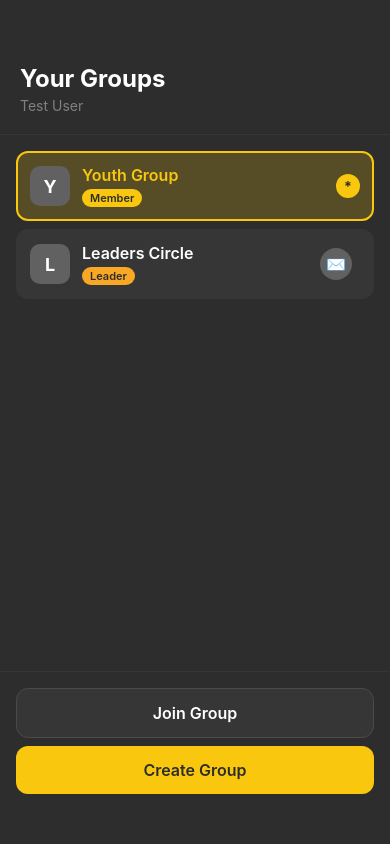
Test: GroupSidebar › Create Group › should show error when creating with empty name
Click the text "Create Group" at [195, 770], box [144,760,247,780]
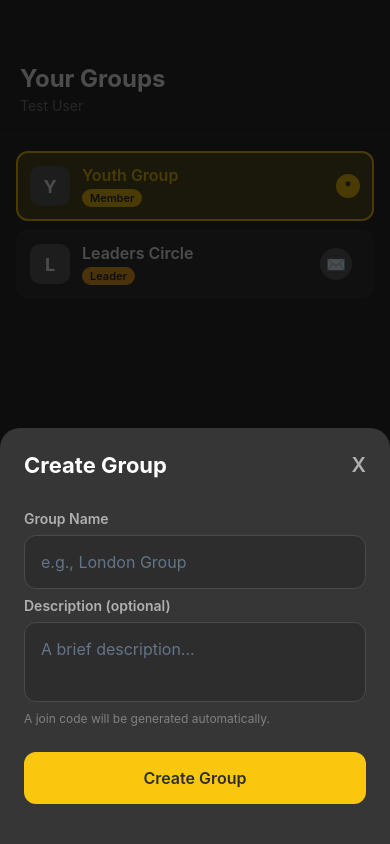
Note: Find the submit button in the modal (there are now two "Create Group" texts)
Click the 2nd text "Create Group" at [195, 778], box [144,768,247,788]
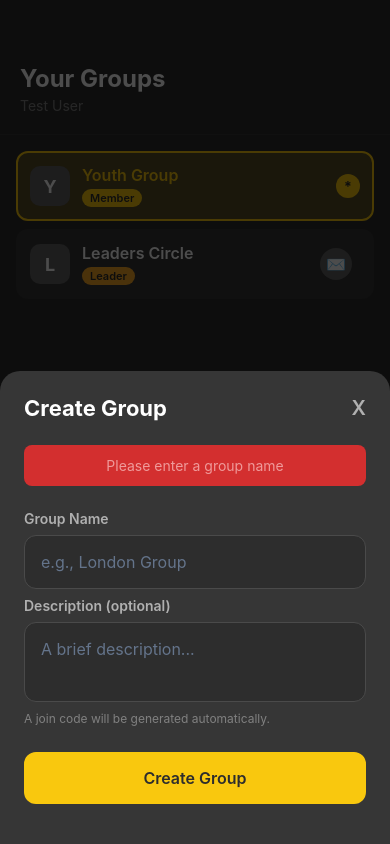
Expected: the text "Please enter a group name" is shown, [106,457,284,474]
